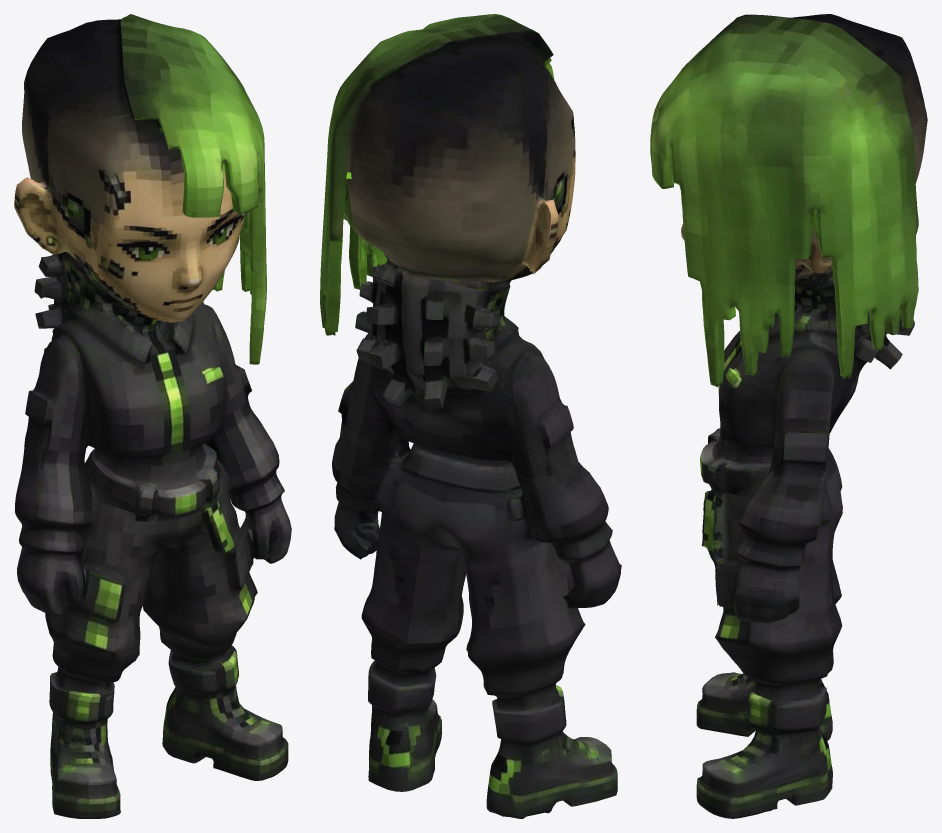
The model's file is maimed_green_female_ps15_v5.glb.
3 renders of one model, left to right at view 1: azimuth 30°, elevation 25°; view 2: azimuth 150°, elevation 25°; view 3: azimuth 270°, elevation 25°, orthographic. The views are drawn at different scales.
Parts seen in each view (by area): view 1: Mesh_0; view 2: Mesh_0; view 3: Mesh_0.
Boxes of the visible parts, box(x1,y1,x2,y2) form: Mesh_0: box(14, 14, 291, 818); Mesh_0: box(320, 14, 621, 818); Mesh_0: box(650, 14, 927, 818).
Bounding box in the file's own units: 0.7172 × 1.91 × 0.6506.
1 material, 1 textured.
